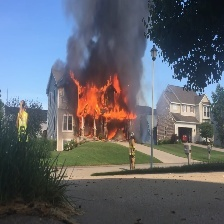fire: (71, 72, 137, 139)
